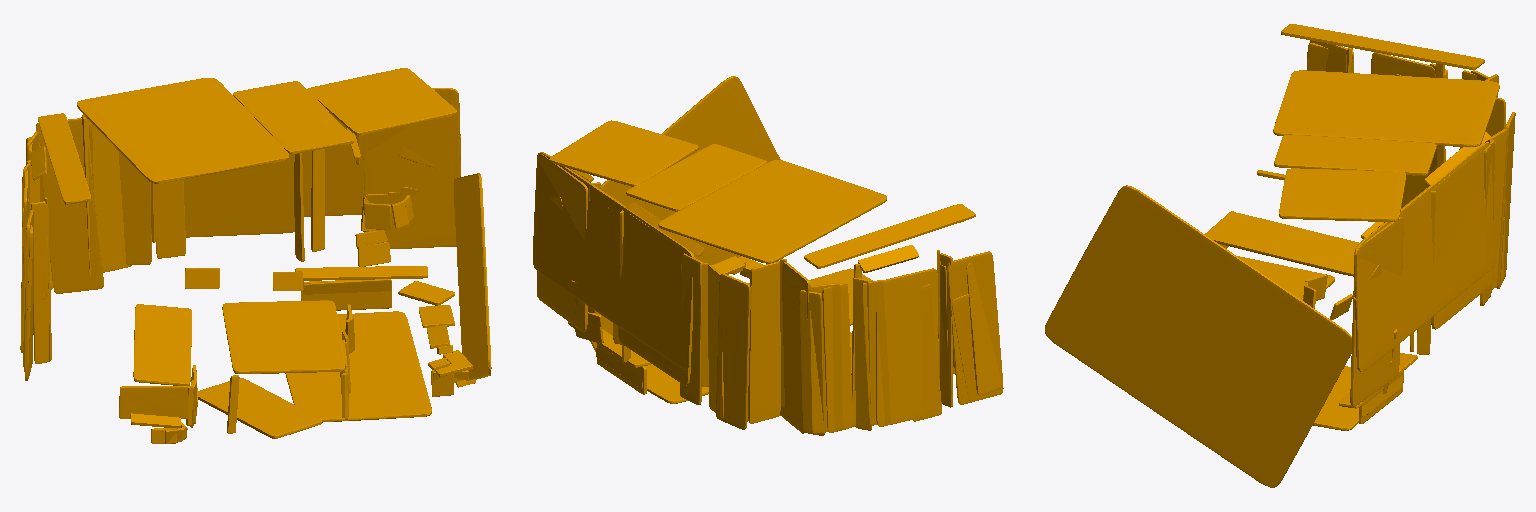
--- Render facts (derived) ---
The picture shows the robot from 3 angles, left to right: view 1: azimuth 30°, elevation 25°; view 2: azimuth 150°, elevation 25°; view 3: azimuth 270°, elevation 25°; orthographic projection.
Model scene with 1 links and 0 joints (none), rooted at scene_link, posed all joints at 0.
Visible links, largest first — view 1: scene_link; view 2: scene_link; view 3: scene_link.
Link boxes in pixels (bbox=[...]): scene_link: bbox=[20, 68, 491, 443]; scene_link: bbox=[533, 76, 1003, 435]; scene_link: bbox=[1045, 24, 1515, 487].
Bounding box of the posed robot: 6.22 × 5.38 × 3.45 m (x, y, z).
90 mesh visuals loaded from 90 distinct referenced files (90 OBJ).

The robot description file, URDF, robot "scene":
<?xml version='1.0' encoding='utf-8'?>
<robot name="scene"><link name="scene_link"><visual><origin xyz="0.000000 0.000000 0.000000" rpy="0.000000 -0.000000 0.000000" /><geometry><mesh filename="part_000.obj" /></geometry></visual><collision><origin xyz="0.000000 0.000000 0.000000" rpy="0.000000 -0.000000 0.000000" /><geometry><mesh filename="part_000.obj" /></geometry></collision><visual><origin xyz="0.000000 0.000000 0.000000" rpy="0.000000 -0.000000 0.000000" /><geometry><mesh filename="part_001.obj" /></geometry></visual><collision><origin xyz="0.000000 0.000000 0.000000" rpy="0.000000 -0.000000 0.000000" /><geometry><mesh filename="part_001.obj" /></geometry></collision><visual><origin xyz="0.000000 0.000000 0.000000" rpy="0.000000 -0.000000 0.000000" /><geometry><mesh filename="part_002.obj" /></geometry></visual><collision><origin xyz="0.000000 0.000000 0.000000" rpy="0.000000 -0.000000 0.000000" /><geometry><mesh filename="part_002.obj" /></geometry></collision><visual><origin xyz="0.000000 0.000000 0.000000" rpy="0.000000 -0.000000 0.000000" /><geometry><mesh filename="part_003.obj" /></geometry></visual><collision><origin xyz="0.000000 0.000000 0.000000" rpy="0.000000 -0.000000 0.000000" /><geometry><mesh filename="part_003.obj" /></geometry></collision><visual><origin xyz="0.000000 0.000000 0.000000" rpy="0.000000 -0.000000 0.000000" /><geometry><mesh filename="part_004.obj" /></geometry></visual><collision><origin xyz="0.000000 0.000000 0.000000" rpy="0.000000 -0.000000 0.000000" /><geometry><mesh filename="part_004.obj" /></geometry></collision><visual><origin xyz="0.000000 0.000000 0.000000" rpy="0.000000 -0.000000 0.000000" /><geometry><mesh filename="part_005.obj" /></geometry></visual><collision><origin xyz="0.000000 0.000000 0.000000" rpy="0.000000 -0.000000 0.000000" /><geometry><mesh filename="part_005.obj" /></geometry></collision><visual><origin xyz="0.000000 0.000000 0.000000" rpy="0.000000 -0.000000 0.000000" /><geometry><mesh filename="part_006.obj" /></geometry></visual><collision><origin xyz="0.000000 0.000000 0.000000" rpy="0.000000 -0.000000 0.000000" /><geometry><mesh filename="part_006.obj" /></geometry></collision><visual><origin xyz="0.000000 0.000000 0.000000" rpy="0.000000 -0.000000 0.000000" /><geometry><mesh filename="part_007.obj" /></geometry></visual><collision><origin xyz="0.000000 0.000000 0.000000" rpy="0.000000 -0.000000 0.000000" /><geometry><mesh filename="part_007.obj" /></geometry></collision><visual><origin xyz="0.000000 0.000000 0.000000" rpy="0.000000 -0.000000 0.000000" /><geometry><mesh filename="part_008.obj" /></geometry></visual><collision><origin xyz="0.000000 0.000000 0.000000" rpy="0.000000 -0.000000 0.000000" /><geometry><mesh filename="part_008.obj" /></geometry></collision><visual><origin xyz="0.000000 0.000000 0.000000" rpy="0.000000 -0.000000 0.000000" /><geometry><mesh filename="part_009.obj" /></geometry></visual><collision><origin xyz="0.000000 0.000000 0.000000" rpy="0.000000 -0.000000 0.000000" /><geometry><mesh filename="part_009.obj" /></geometry></collision><visual><origin xyz="0.000000 0.000000 0.000000" rpy="0.000000 -0.000000 0.000000" /><geometry><mesh filename="part_010.obj" /></geometry></visual><collision><origin xyz="0.000000 0.000000 0.000000" rpy="0.000000 -0.000000 0.000000" /><geometry><mesh filename="part_010.obj" /></geometry></collision><visual><origin xyz="0.000000 0.000000 0.000000" rpy="0.000000 -0.000000 0.000000" /><geometry><mesh filename="part_011.obj" /></geometry></visual><collision><origin xyz="0.000000 0.000000 0.000000" rpy="0.000000 -0.000000 0.000000" /><geometry><mesh filename="part_011.obj" /></geometry></collision><visual><origin xyz="0.000000 0.000000 0.000000" rpy="0.000000 -0.000000 0.000000" /><geometry><mesh filename="part_012.obj" /></geometry></visual><collision><origin xyz="0.000000 0.000000 0.000000" rpy="0.000000 -0.000000 0.000000" /><geometry><mesh filename="part_012.obj" /></geometry></collision><visual><origin xyz="0.000000 0.000000 0.000000" rpy="0.000000 -0.000000 0.000000" /><geometry><mesh filename="part_013.obj" /></geometry></visual><collision><origin xyz="0.000000 0.000000 0.000000" rpy="0.000000 -0.000000 0.000000" /><geometry><mesh filename="part_013.obj" /></geometry></collision><visual><origin xyz="0.000000 0.000000 0.000000" rpy="0.000000 -0.000000 0.000000" /><geometry><mesh filename="part_014.obj" /></geometry></visual><collision><origin xyz="0.000000 0.000000 0.000000" rpy="0.000000 -0.000000 0.000000" /><geometry><mesh filename="part_014.obj" /></geometry></collision><visual><origin xyz="0.000000 0.000000 0.000000" rpy="0.000000 -0.000000 0.000000" /><geometry><mesh filename="part_015.obj" /></geometry></visual><collision><origin xyz="0.000000 0.000000 0.000000" rpy="0.000000 -0.000000 0.000000" /><geometry><mesh filename="part_015.obj" /></geometry></collision><visual><origin xyz="0.000000 0.000000 0.000000" rpy="0.000000 -0.000000 0.000000" /><geometry><mesh filename="part_016.obj" /></geometry></visual><collision><origin xyz="0.000000 0.000000 0.000000" rpy="0.000000 -0.000000 0.000000" /><geometry><mesh filename="part_016.obj" /></geometry></collision><visual><origin xyz="0.000000 0.000000 0.000000" rpy="0.000000 -0.000000 0.000000" /><geometry><mesh filename="part_017.obj" /></geometry></visual><collision><origin xyz="0.000000 0.000000 0.000000" rpy="0.000000 -0.000000 0.000000" /><geometry><mesh filename="part_017.obj" /></geometry></collision><visual><origin xyz="0.000000 0.000000 0.000000" rpy="0.000000 -0.000000 0.000000" /><geometry><mesh filename="part_018.obj" /></geometry></visual><collision><origin xyz="0.000000 0.000000 0.000000" rpy="0.000000 -0.000000 0.000000" /><geometry><mesh filename="part_018.obj" /></geometry></collision><visual><origin xyz="0.000000 0.000000 0.000000" rpy="0.000000 -0.000000 0.000000" /><geometry><mesh filename="part_019.obj" /></geometry></visual><collision><origin xyz="0.000000 0.000000 0.000000" rpy="0.000000 -0.000000 0.000000" /><geometry><mesh filename="part_019.obj" /></geometry></collision><visual><origin xyz="0.000000 0.000000 0.000000" rpy="0.000000 -0.000000 0.000000" /><geometry><mesh filename="part_020.obj" /></geometry></visual><collision><origin xyz="0.000000 0.000000 0.000000" rpy="0.000000 -0.000000 0.000000" /><geometry><mesh filename="part_020.obj" /></geometry></collision><visual><origin xyz="0.000000 0.000000 0.000000" rpy="0.000000 -0.000000 0.000000" /><geometry><mesh filename="part_021.obj" /></geometry></visual><collision><origin xyz="0.000000 0.000000 0.000000" rpy="0.000000 -0.000000 0.000000" /><geometry><mesh filename="part_021.obj" /></geometry></collision><visual><origin xyz="0.000000 0.000000 0.000000" rpy="0.000000 -0.000000 0.000000" /><geometry><mesh filename="part_022.obj" /></geometry></visual><collision><origin xyz="0.000000 0.000000 0.000000" rpy="0.000000 -0.000000 0.000000" /><geometry><mesh filename="part_022.obj" /></geometry></collision><visual><origin xyz="0.000000 0.000000 0.000000" rpy="0.000000 -0.000000 0.000000" /><geometry><mesh filename="part_023.obj" /></geometry></visual><collision><origin xyz="0.000000 0.000000 0.000000" rpy="0.000000 -0.000000 0.000000" /><geometry><mesh filename="part_023.obj" /></geometry></collision><visual><origin xyz="0.000000 0.000000 0.000000" rpy="0.000000 -0.000000 0.000000" /><geometry><mesh filename="part_024.obj" /></geometry></visual><collision><origin xyz="0.000000 0.000000 0.000000" rpy="0.000000 -0.000000 0.000000" /><geometry><mesh filename="part_024.obj" /></geometry></collision><visual><origin xyz="0.000000 0.000000 0.000000" rpy="0.000000 -0.000000 0.000000" /><geometry><mesh filename="part_025.obj" /></geometry></visual><collision><origin xyz="0.000000 0.000000 0.000000" rpy="0.000000 -0.000000 0.000000" /><geometry><mesh filename="part_025.obj" /></geometry></collision><visual><origin xyz="0.000000 0.000000 0.000000" rpy="0.000000 -0.000000 0.000000" /><geometry><mesh filename="part_026.obj" /></geometry></visual><collision><origin xyz="0.000000 0.000000 0.000000" rpy="0.000000 -0.000000 0.000000" /><geometry><mesh filename="part_026.obj" /></geometry></collision><visual><origin xyz="0.000000 0.000000 0.000000" rpy="0.000000 -0.000000 0.000000" /><geometry><mesh filename="part_027.obj" /></geometry></visual><collision><origin xyz="0.000000 0.000000 0.000000" rpy="0.000000 -0.000000 0.000000" /><geometry><mesh filename="part_027.obj" /></geometry></collision><visual><origin xyz="0.000000 0.000000 0.000000" rpy="0.000000 -0.000000 0.000000" /><geometry><mesh filename="part_028.obj" /></geometry></visual><collision><origin xyz="0.000000 0.000000 0.000000" rpy="0.000000 -0.000000 0.000000" /><geometry><mesh filename="part_028.obj" /></geometry></collision><visual><origin xyz="0.000000 0.000000 0.000000" rpy="0.000000 -0.000000 0.000000" /><geometry><mesh filename="part_029.obj" /></geometry></visual><collision><origin xyz="0.000000 0.000000 0.000000" rpy="0.000000 -0.000000 0.000000" /><geometry><mesh filename="part_029.obj" /></geometry></collision><visual><origin xyz="0.000000 0.000000 0.000000" rpy="0.000000 -0.000000 0.000000" /><geometry><mesh filename="part_030.obj" /></geometry></visual><collision><origin xyz="0.000000 0.000000 0.000000" rpy="0.000000 -0.000000 0.000000" /><geometry><mesh filename="part_030.obj" /></geometry></collision><visual><origin xyz="0.000000 0.000000 0.000000" rpy="0.000000 -0.000000 0.000000" /><geometry><mesh filename="part_031.obj" /></geometry></visual><collision><origin xyz="0.000000 0.000000 0.000000" rpy="0.000000 -0.000000 0.000000" /><geometry><mesh filename="part_031.obj" /></geometry></collision><visual><origin xyz="0.000000 0.000000 0.000000" rpy="0.000000 -0.000000 0.000000" /><geometry><mesh filename="part_032.obj" /></geometry></visual><collision><origin xyz="0.000000 0.000000 0.000000" rpy="0.000000 -0.000000 0.000000" /><geometry><mesh filename="part_032.obj" /></geometry></collision><visual><origin xyz="0.000000 0.000000 0.000000" rpy="0.000000 -0.000000 0.000000" /><geometry><mesh filename="part_033.obj" /></geometry></visual><collision><origin xyz="0.000000 0.000000 0.000000" rpy="0.000000 -0.000000 0.000000" /><geometry><mesh filename="part_033.obj" /></geometry></collision><visual><origin xyz="0.000000 0.000000 0.000000" rpy="0.000000 -0.000000 0.000000" /><geometry><mesh filename="part_034.obj" /></geometry></visual><collision><origin xyz="0.000000 0.000000 0.000000" rpy="0.000000 -0.000000 0.000000" /><geometry><mesh filename="part_034.obj" /></geometry></collision><visual><origin xyz="0.000000 0.000000 0.000000" rpy="0.000000 -0.000000 0.000000" /><geometry><mesh filename="part_035.obj" /></geometry></visual><collision><origin xyz="0.000000 0.000000 0.000000" rpy="0.000000 -0.000000 0.000000" /><geometry><mesh filename="part_035.obj" /></geometry></collision><visual><origin xyz="0.000000 0.000000 0.000000" rpy="0.000000 -0.000000 0.000000" /><geometry><mesh filename="part_036.obj" /></geometry></visual><collision><origin xyz="0.000000 0.000000 0.000000" rpy="0.000000 -0.000000 0.000000" /><geometry><mesh filename="part_036.obj" /></geometry></collision><visual><origin xyz="0.000000 0.000000 0.000000" rpy="0.000000 -0.000000 0.000000" /><geometry><mesh filename="part_037.obj" /></geometry></visual><collision><origin xyz="0.000000 0.000000 0.000000" rpy="0.000000 -0.000000 0.000000" /><geometry><mesh filename="part_037.obj" /></geometry></collision><visual><origin xyz="0.000000 0.000000 0.000000" rpy="0.000000 -0.000000 0.000000" /><geometry><mesh filename="part_038.obj" /></geometry></visual><collision><origin xyz="0.000000 0.000000 0.000000" rpy="0.000000 -0.000000 0.000000" /><geometry><mesh filename="part_038.obj" /></geometry></collision><visual><origin xyz="0.000000 0.000000 0.000000" rpy="0.000000 -0.000000 0.000000" /><geometry><mesh filename="part_039.obj" /></geometry></visual><collision><origin xyz="0.000000 0.000000 0.000000" rpy="0.000000 -0.000000 0.000000" /><geometry><mesh filename="part_039.obj" /></geometry></collision><visual><origin xyz="0.000000 0.000000 0.000000" rpy="0.000000 -0.000000 0.000000" /><geometry><mesh filename="part_040.obj" /></geometry></visual><collision><origin xyz="0.000000 0.000000 0.000000" rpy="0.000000 -0.000000 0.000000" /><geometry><mesh filename="part_040.obj" /></geometry></collision><visual><origin xyz="0.000000 0.000000 0.000000" rpy="0.000000 -0.000000 0.000000" /><geometry><mesh filename="part_041.obj" /></geometry></visual><collision><origin xyz="0.000000 0.000000 0.000000" rpy="0.000000 -0.000000 0.000000" /><geometry><mesh filename="part_041.obj" /></geometry></collision><visual><origin xyz="0.000000 0.000000 0.000000" rpy="0.000000 -0.000000 0.000000" /><geometry><mesh filename="part_042.obj" /></geometry></visual><collision><origin xyz="0.000000 0.000000 0.000000" rpy="0.000000 -0.000000 0.000000" /><geometry><mesh filename="part_042.obj" /></geometry></collision><visual><origin xyz="0.000000 0.000000 0.000000" rpy="0.000000 -0.000000 0.000000" /><geometry><mesh filename="part_043.obj" /></geometry></visual><collision><origin xyz="0.000000 0.000000 0.000000" rpy="0.000000 -0.000000 0.000000" /><geometry><mesh filename="part_043.obj" /></geometry></collision><visual><origin xyz="0.000000 0.000000 0.000000" rpy="0.000000 -0.000000 0.000000" /><geometry><mesh filename="part_044.obj" /></geometry></visual><collision><origin xyz="0.000000 0.000000 0.000000" rpy="0.000000 -0.000000 0.000000" /><geometry><mesh filename="part_044.obj" /></geometry></collision><visual><origin xyz="0.000000 0.000000 0.000000" rpy="0.000000 -0.000000 0.000000" /><geometry><mesh filename="part_045.obj" /></geometry></visual><collision><origin xyz="0.000000 0.000000 0.000000" rpy="0.000000 -0.000000 0.000000" /><geometry><mesh filename="part_045.obj" /></geometry></collision><visual><origin xyz="0.000000 0.000000 0.000000" rpy="0.000000 -0.000000 0.000000" /><geometry><mesh filename="part_046.obj" /></geometry></visual><collision><origin xyz="0.000000 0.000000 0.000000" rpy="0.000000 -0.000000 0.000000" /><geometry><mesh filename="part_046.obj" /></geometry></collision><visual><origin xyz="0.000000 0.000000 0.000000" rpy="0.000000 -0.000000 0.000000" /><geometry><mesh filename="part_047.obj" /></geometry></visual><collision><origin xyz="0.000000 0.000000 0.000000" rpy="0.000000 -0.000000 0.000000" /><geometry><mesh filename="part_047.obj" /></geometry></collision><visual><origin xyz="0.000000 0.000000 0.000000" rpy="0.000000 -0.000000 0.000000" /><geometry><mesh filename="part_048.obj" /></geometry></visual><collision><origin xyz="0.000000 0.000000 0.000000" rpy="0.000000 -0.000000 0.000000" /><geometry><mesh filename="part_048.obj" /></geometry></collision><visual><origin xyz="0.000000 0.000000 0.000000" rpy="0.000000 -0.000000 0.000000" /><geometry><mesh filename="part_049.obj" /></geometry></visual><collision><origin xyz="0.000000 0.000000 0.000000" rpy="0.000000 -0.000000 0.000000" /><geometry><mesh filename="part_049.obj" /></geometry></collision><visual><origin xyz="0.000000 0.000000 0.000000" rpy="0.000000 -0.000000 0.000000" /><geometry><mesh filename="part_050.obj" /></geometry></visual><collision><origin xyz="0.000000 0.000000 0.000000" rpy="0.000000 -0.000000 0.000000" /><geometry><mesh filename="part_050.obj" /></geometry></collision><visual><origin xyz="0.000000 0.000000 0.000000" rpy="0.000000 -0.000000 0.000000" /><geometry><mesh filename="part_051.obj" /></geometry></visual><collision><origin xyz="0.000000 0.000000 0.000000" rpy="0.000000 -0.000000 0.000000" /><geometry><mesh filename="part_051.obj" /></geometry></collision><visual><origin xyz="0.000000 0.000000 0.000000" rpy="0.000000 -0.000000 0.000000" /><geometry><mesh filename="part_052.obj" /></geometry></visual><collision><origin xyz="0.000000 0.000000 0.000000" rpy="0.000000 -0.000000 0.000000" /><geometry><mesh filename="part_052.obj" /></geometry></collision><visual><origin xyz="0.000000 0.000000 0.000000" rpy="0.000000 -0.000000 0.000000" /><geometry><mesh filename="part_053.obj" /></geometry></visual><collision><origin xyz="0.000000 0.000000 0.000000" rpy="0.000000 -0.000000 0.000000" /><geometry><mesh filename="part_053.obj" /></geometry></collision><visual><origin xyz="0.000000 0.000000 0.000000" rpy="0.000000 -0.000000 0.000000" /><geometry><mesh filename="part_054.obj" /></geometry></visual><collision><origin xyz="0.000000 0.000000 0.000000" rpy="0.000000 -0.000000 0.000000" /><geometry><mesh filename="part_054.obj" /></geometry></collision><visual><origin xyz="0.000000 0.000000 0.000000" rpy="0.000000 -0.000000 0.000000" /><geometry><mesh filename="part_055.obj" /></geometry></visual><collision><origin xyz="0.000000 0.000000 0.000000" rpy="0.000000 -0.000000 0.000000" /><geometry><mesh filename="part_055.obj" /></geometry></collision><visual><origin xyz="0.000000 0.000000 0.000000" rpy="0.000000 -0.000000 0.000000" /><geometry><mesh filename="part_056.obj" /></geometry></visual><collision><origin xyz="0.000000 0.000000 0.000000" rpy="0.000000 -0.000000 0.000000" /><geometry><mesh filename="part_056.obj" /></geometry></collision><visual><origin xyz="0.000000 0.000000 0.000000" rpy="0.000000 -0.000000 0.000000" /><geometry><mesh filename="part_057.obj" /></geometry></visual><collision><origin xyz="0.000000 0.000000 0.000000" rpy="0.000000 -0.000000 0.000000" /><geometry><mesh filename="part_057.obj" /></geometry></collision><visual><origin xyz="0.000000 0.000000 0.000000" rpy="0.000000 -0.000000 0.000000" /><geometry><mesh filename="part_058.obj" /></geometry></visual><collision><origin xyz="0.000000 0.000000 0.000000" rpy="0.000000 -0.000000 0.000000" /><geometry><mesh filename="part_058.obj" /></geometry></collision><visual><origin xyz="0.000000 0.000000 0.000000" rpy="0.000000 -0.000000 0.000000" /><geometry><mesh filename="part_059.obj" /></geometry></visual><collision><origin xyz="0.000000 0.000000 0.000000" rpy="0.000000 -0.000000 0.000000" /><geometry><mesh filename="part_059.obj" /></geometry></collision><visual><origin xyz="0.000000 0.000000 0.000000" rpy="0.000000 -0.000000 0.000000" /><geometry><mesh filename="part_060.obj" /></geometry></visual><collision><origin xyz="0.000000 0.000000 0.000000" rpy="0.000000 -0.000000 0.000000" /><geometry><mesh filename="part_060.obj" /></geometry></collision><visual><origin xyz="0.000000 0.000000 0.000000" rpy="0.000000 -0.000000 0.000000" /><geometry><mesh filename="part_061.obj" /></geometry></visual><collision><origin xyz="0.000000 0.000000 0.000000" rpy="0.000000 -0.000000 0.000000" /><geometry><mesh filename="part_061.obj" /></geometry></collision><visual><origin xyz="0.000000 0.000000 0.000000" rpy="0.000000 -0.000000 0.000000" /><geometry><mesh filename="part_062.obj" /></geometry></visual><collision><origin xyz="0.000000 0.000000 0.000000" rpy="0.000000 -0.000000 0.000000" /><geometry><mesh filename="part_062.obj" /></geometry></collision><visual><origin xyz="0.000000 0.000000 0.000000" rpy="0.000000 -0.000000 0.000000" /><geometry><mesh filename="part_063.obj" /></geometry></visual><collision><origin xyz="0.000000 0.000000 0.000000" rpy="0.000000 -0.000000 0.000000" /><geometry><mesh filename="part_063.obj" /></geometry></collision><visual><origin xyz="0.000000 0.000000 0.000000" rpy="0.000000 -0.000000 0.000000" /><geometry><mesh filename="part_064.obj" /></geometry></visual><collision><origin xyz="0.000000 0.000000 0.000000" rpy="0.000000 -0.000000 0.000000" /><geometry><mesh filename="part_064.obj" /></geometry></collision><visual><origin xyz="0.000000 0.000000 0.000000" rpy="0.000000 -0.000000 0.000000" /><geometry><mesh filename="part_065.obj" /></geometry></visual><collision><origin xyz="0.000000 0.000000 0.000000" rpy="0.000000 -0.000000 0.000000" /><geometry><mesh filename="part_065.obj" /></geometry></collision><visual><origin xyz="0.000000 0.000000 0.000000" rpy="0.000000 -0.000000 0.000000" /><geometry><mesh filename="part_066.obj" /></geometry></visual><collision><origin xyz="0.000000 0.000000 0.000000" rpy="0.000000 -0.000000 0.000000" /><geometry><mesh filename="part_066.obj" /></geometry></collision><visual><origin xyz="0.000000 0.000000 0.000000" rpy="0.000000 -0.000000 0.000000" /><geometry><mesh filename="part_067.obj" /></geometry></visual><collision><origin xyz="0.000000 0.000000 0.000000" rpy="0.000000 -0.000000 0.000000" /><geometry><mesh filename="part_067.obj" /></geometry></collision><visual><origin xyz="0.000000 0.000000 0.000000" rpy="0.000000 -0.000000 0.000000" /><geometry><mesh filename="part_068.obj" /></geometry></visual><collision><origin xyz="0.000000 0.000000 0.000000" rpy="0.000000 -0.000000 0.000000" /><geometry><mesh filename="part_068.obj" /></geometry></collision><visual><origin xyz="0.000000 0.000000 0.000000" rpy="0.000000 -0.000000 0.000000" /><geometry><mesh filename="part_069.obj" /></geometry></visual><collision><origin xyz="0.000000 0.000000 0.000000" rpy="0.000000 -0.000000 0.000000" /><geometry><mesh filename="part_069.obj" /></geometry></collision><visual><origin xyz="0.000000 0.000000 0.000000" rpy="0.000000 -0.000000 0.000000" /><geometry><mesh filename="part_070.obj" /></geometry></visual><collision><origin xyz="0.000000 0.000000 0.000000" rpy="0.000000 -0.000000 0.000000" /><geometry><mesh filename="part_070.obj" /></geometry></collision><visual><origin xyz="0.000000 0.000000 0.000000" rpy="0.000000 -0.000000 0.000000" /><geometry><mesh filename="part_071.obj" /></geometry></visual><collision><origin xyz="0.000000 0.000000 0.000000" rpy="0.000000 -0.000000 0.000000" /><geometry><mesh filename="part_071.obj" /></geometry></collision><visual><origin xyz="0.000000 0.000000 0.000000" rpy="0.000000 -0.000000 0.000000" /><geometry><mesh filename="part_072.obj" /></geometry></visual><collision><origin xyz="0.000000 0.000000 0.000000" rpy="0.000000 -0.000000 0.000000" /><geometry><mesh filename="part_072.obj" /></geometry></collision><visual><origin xyz="0.000000 0.000000 0.000000" rpy="0.000000 -0.000000 0.000000" /><geometry><mesh filename="part_073.obj" /></geometry></visual><collision><origin xyz="0.000000 0.000000 0.000000" rpy="0.000000 -0.000000 0.000000" /><geometry><mesh filename="part_073.obj" /></geometry></collision><visual><origin xyz="0.000000 0.000000 0.000000" rpy="0.000000 -0.000000 0.000000" /><geometry><mesh filename="part_074.obj" /></geometry></visual><collision><origin xyz="0.000000 0.000000 0.000000" rpy="0.000000 -0.000000 0.000000" /><geometry><mesh filename="part_074.obj" /></geometry></collision><visual><origin xyz="0.000000 0.000000 0.000000" rpy="0.000000 -0.000000 0.000000" /><geometry><mesh filename="part_075.obj" /></geometry></visual><collision><origin xyz="0.000000 0.000000 0.000000" rpy="0.000000 -0.000000 0.000000" /><geometry><mesh filename="part_075.obj" /></geometry></collision><visual><origin xyz="0.000000 0.000000 0.000000" rpy="0.000000 -0.000000 0.000000" /><geometry><mesh filename="part_076.obj" /></geometry></visual><collision><origin xyz="0.000000 0.000000 0.000000" rpy="0.000000 -0.000000 0.000000" /><geometry><mesh filename="part_076.obj" /></geometry></collision><visual><origin xyz="0.000000 0.000000 0.000000" rpy="0.000000 -0.000000 0.000000" /><geometry><mesh filename="part_077.obj" /></geometry></visual><collision><origin xyz="0.000000 0.000000 0.000000" rpy="0.000000 -0.000000 0.000000" /><geometry><mesh filename="part_077.obj" /></geometry></collision><visual><origin xyz="0.000000 0.000000 0.000000" rpy="0.000000 -0.000000 0.000000" /><geometry><mesh filename="part_078.obj" /></geometry></visual><collision><origin xyz="0.000000 0.000000 0.000000" rpy="0.000000 -0.000000 0.000000" /><geometry><mesh filename="part_078.obj" /></geometry></collision><visual><origin xyz="0.000000 0.000000 0.000000" rpy="0.000000 -0.000000 0.000000" /><geometry><mesh filename="part_079.obj" /></geometry></visual><collision><origin xyz="0.000000 0.000000 0.000000" rpy="0.000000 -0.000000 0.000000" /><geometry><mesh filename="part_079.obj" /></geometry></collision><visual><origin xyz="0.000000 0.000000 0.000000" rpy="0.000000 -0.000000 0.000000" /><geometry><mesh filename="part_080.obj" /></geometry></visual><collision><origin xyz="0.000000 0.000000 0.000000" rpy="0.000000 -0.000000 0.000000" /><geometry><mesh filename="part_080.obj" /></geometry></collision><visual><origin xyz="0.000000 0.000000 0.000000" rpy="0.000000 -0.000000 0.000000" /><geometry><mesh filename="part_081.obj" /></geometry></visual><collision><origin xyz="0.000000 0.000000 0.000000" rpy="0.000000 -0.000000 0.000000" /><geometry><mesh filename="part_081.obj" /></geometry></collision><visual><origin xyz="0.000000 0.000000 0.000000" rpy="0.000000 -0.000000 0.000000" /><geometry><mesh filename="part_082.obj" /></geometry></visual><collision><origin xyz="0.000000 0.000000 0.000000" rpy="0.000000 -0.000000 0.000000" /><geometry><mesh filename="part_082.obj" /></geometry></collision><visual><origin xyz="0.000000 0.000000 0.000000" rpy="0.000000 -0.000000 0.000000" /><geometry><mesh filename="part_083.obj" /></geometry></visual><collision><origin xyz="0.000000 0.000000 0.000000" rpy="0.000000 -0.000000 0.000000" /><geometry><mesh filename="part_083.obj" /></geometry></collision><visual><origin xyz="0.000000 0.000000 0.000000" rpy="0.000000 -0.000000 0.000000" /><geometry><mesh filename="part_084.obj" /></geometry></visual><collision><origin xyz="0.000000 0.000000 0.000000" rpy="0.000000 -0.000000 0.000000" /><geometry><mesh filename="part_084.obj" /></geometry></collision><visual><origin xyz="0.000000 0.000000 0.000000" rpy="0.000000 -0.000000 0.000000" /><geometry><mesh filename="part_085.obj" /></geometry></visual><collision><origin xyz="0.000000 0.000000 0.000000" rpy="0.000000 -0.000000 0.000000" /><geometry><mesh filename="part_085.obj" /></geometry></collision><visual><origin xyz="0.000000 0.000000 0.000000" rpy="0.000000 -0.000000 0.000000" /><geometry><mesh filename="part_086.obj" /></geometry></visual><collision><origin xyz="0.000000 0.000000 0.000000" rpy="0.000000 -0.000000 0.000000" /><geometry><mesh filename="part_086.obj" /></geometry></collision><visual><origin xyz="0.000000 0.000000 0.000000" rpy="0.000000 -0.000000 0.000000" /><geometry><mesh filename="part_087.obj" /></geometry></visual><collision><origin xyz="0.000000 0.000000 0.000000" rpy="0.000000 -0.000000 0.000000" /><geometry><mesh filename="part_087.obj" /></geometry></collision><visual><origin xyz="0.000000 0.000000 0.000000" rpy="0.000000 -0.000000 0.000000" /><geometry><mesh filename="part_088.obj" /></geometry></visual><collision><origin xyz="0.000000 0.000000 0.000000" rpy="0.000000 -0.000000 0.000000" /><geometry><mesh filename="part_088.obj" /></geometry></collision><visual><origin xyz="0.000000 0.000000 0.000000" rpy="0.000000 -0.000000 0.000000" /><geometry><mesh filename="part_089.obj" /></geometry></visual><collision><origin xyz="0.000000 0.000000 0.000000" rpy="0.000000 -0.000000 0.000000" /><geometry><mesh filename="part_089.obj" /></geometry></collision></link></robot>
